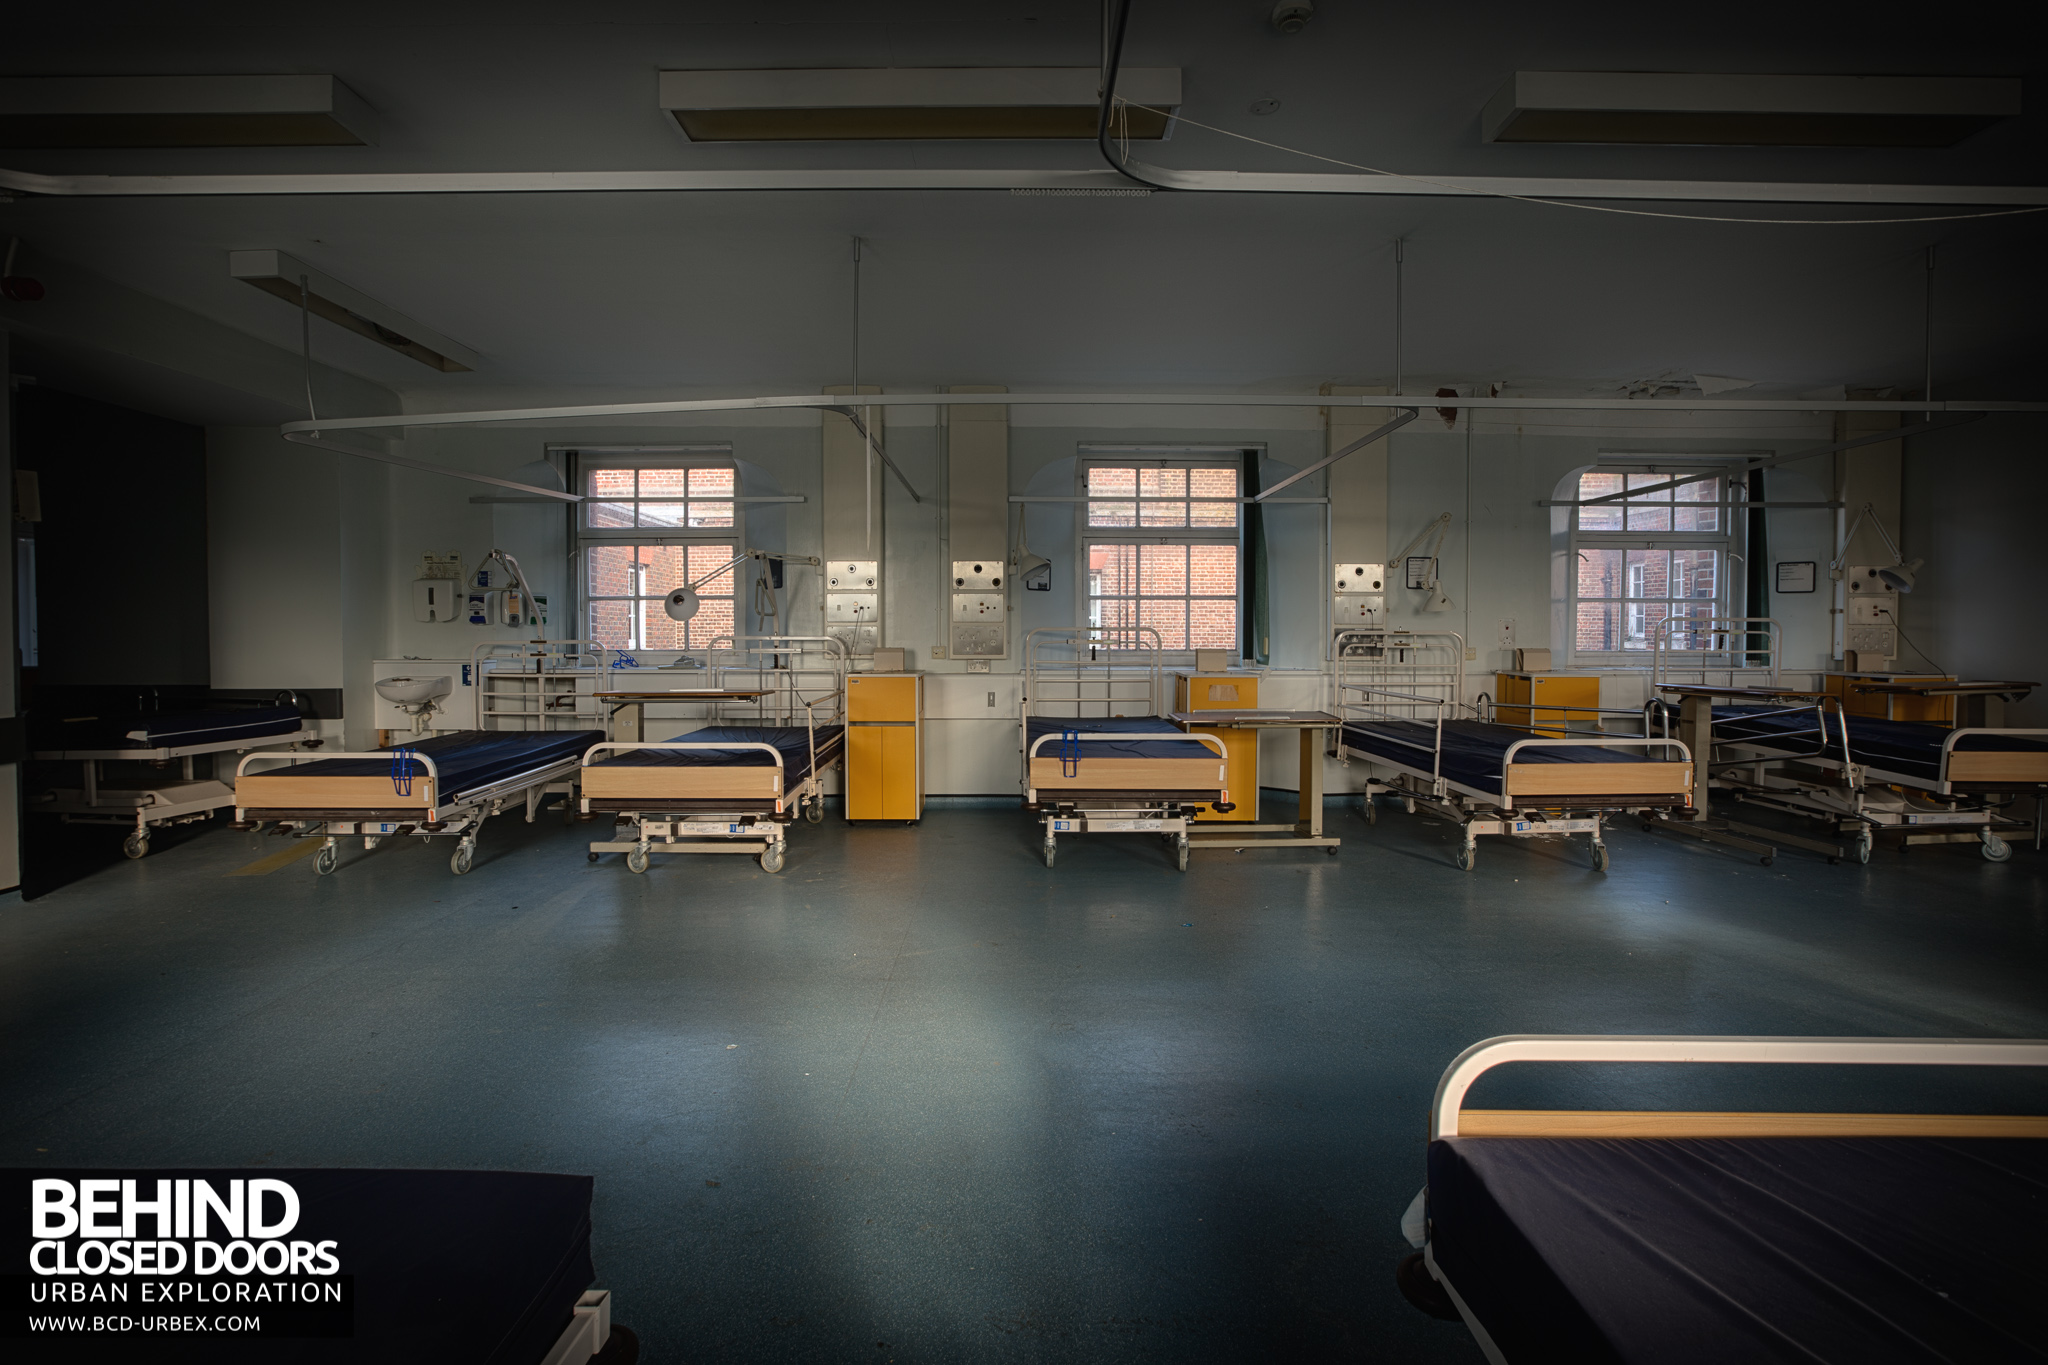hospital bed: (199, 689, 577, 836), (1673, 678, 2045, 810), (1332, 711, 1693, 824), (545, 698, 822, 842), (1010, 707, 1229, 814)
